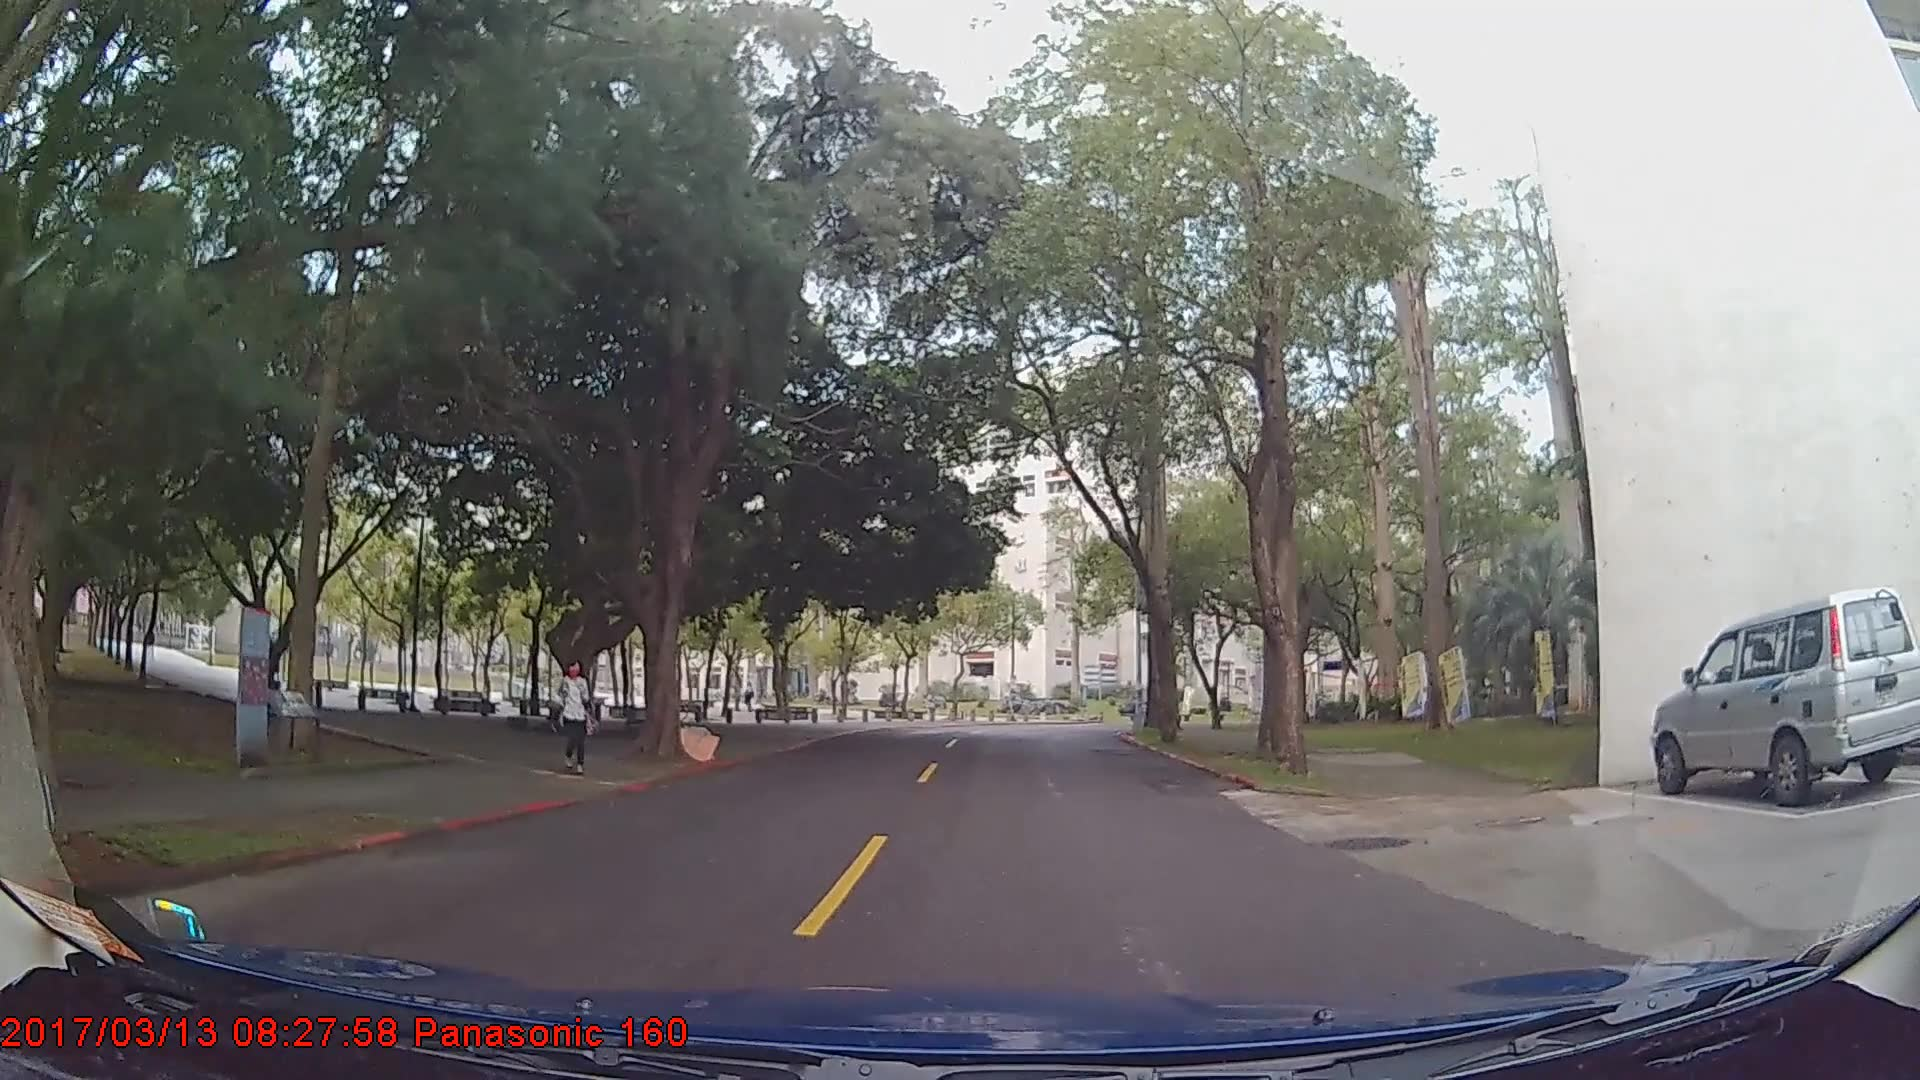pedestrian: (552, 657, 598, 770)
vehicle: (1651, 585, 1920, 809)
